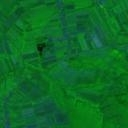alloviz: (35, 42, 47, 53)
